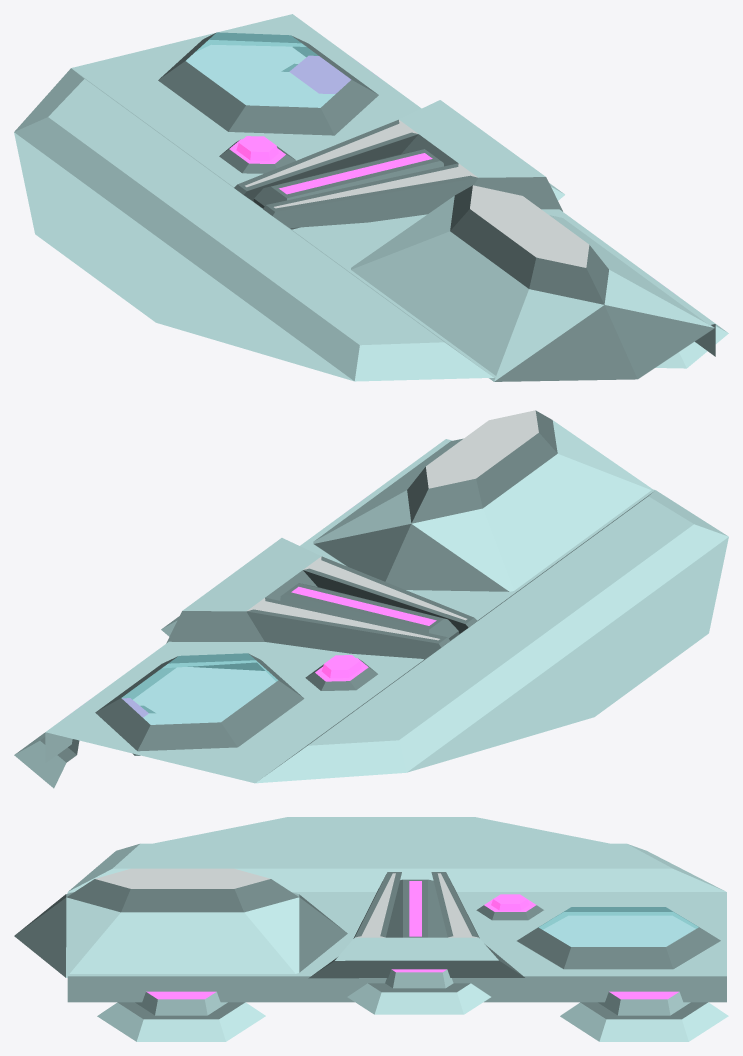
Rendered from portegauche_blanche_salle01.fbx.
3 renders of one model, top to bottom at view 1: azimuth 30°, elevation 25°; view 2: azimuth 150°, elevation 25°; view 3: azimuth 270°, elevation 25°, orthographic. The views are drawn at different scales.
Parts seen in each view (by area): view 1: Porte_droite.004; view 2: Porte_droite.004; view 3: Porte_droite.004.
Part boxes in pixels (box(x1,y1,x2,y2)): Porte_droite.004: box(14, 14, 728, 381); Porte_droite.004: box(14, 410, 728, 788); Porte_droite.004: box(14, 817, 728, 1041).
Size of the model in its own units: 153 by 38.86 by 256.
